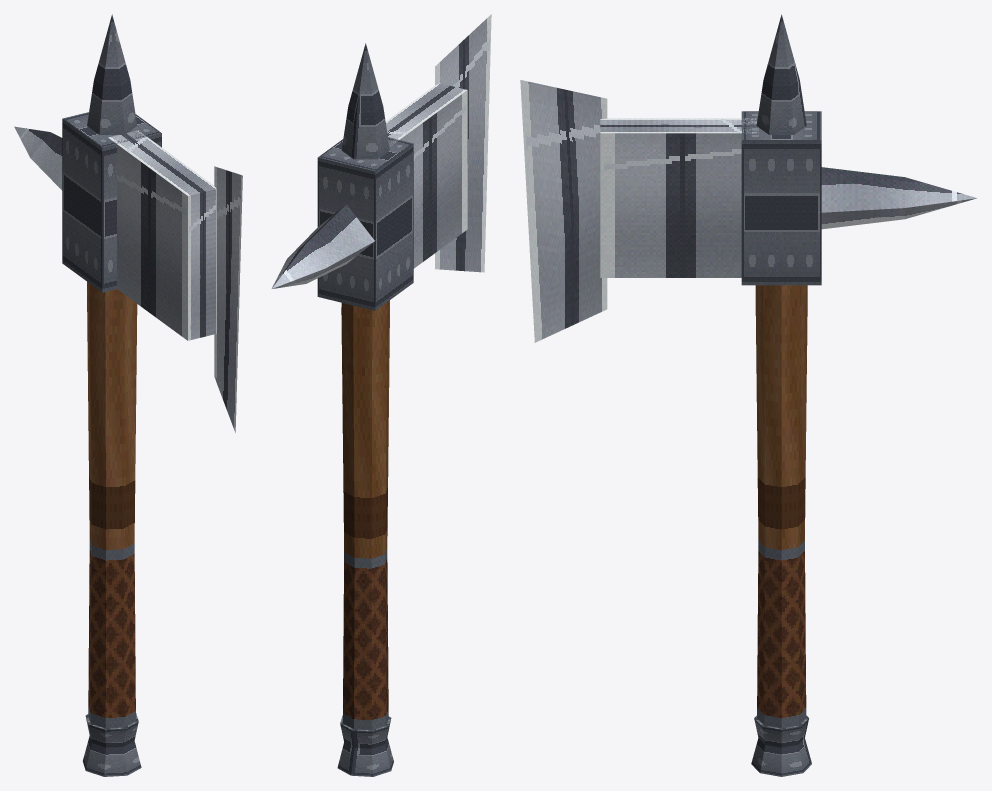
The model's file is machado_de_ferro.glb.
3 views of the same model, side by side, from view 1: azimuth 30°, elevation 25°; view 2: azimuth 150°, elevation 25°; view 3: azimuth 270°, elevation 25° (orthographic). The views are drawn at different scales.
Visible parts, largest first — view 1: machado_de_ferro; view 2: machado_de_ferro; view 3: machado_de_ferro.
Boxes of the visible parts, box(x1,y1,x2,y2) form: machado_de_ferro: box(14, 14, 242, 776); machado_de_ferro: box(271, 14, 491, 776); machado_de_ferro: box(520, 14, 976, 776).
Bounding box in the file's own units: 0.096 × 1.14 × 0.63.
Materials: 1 (1 with a texture image).
